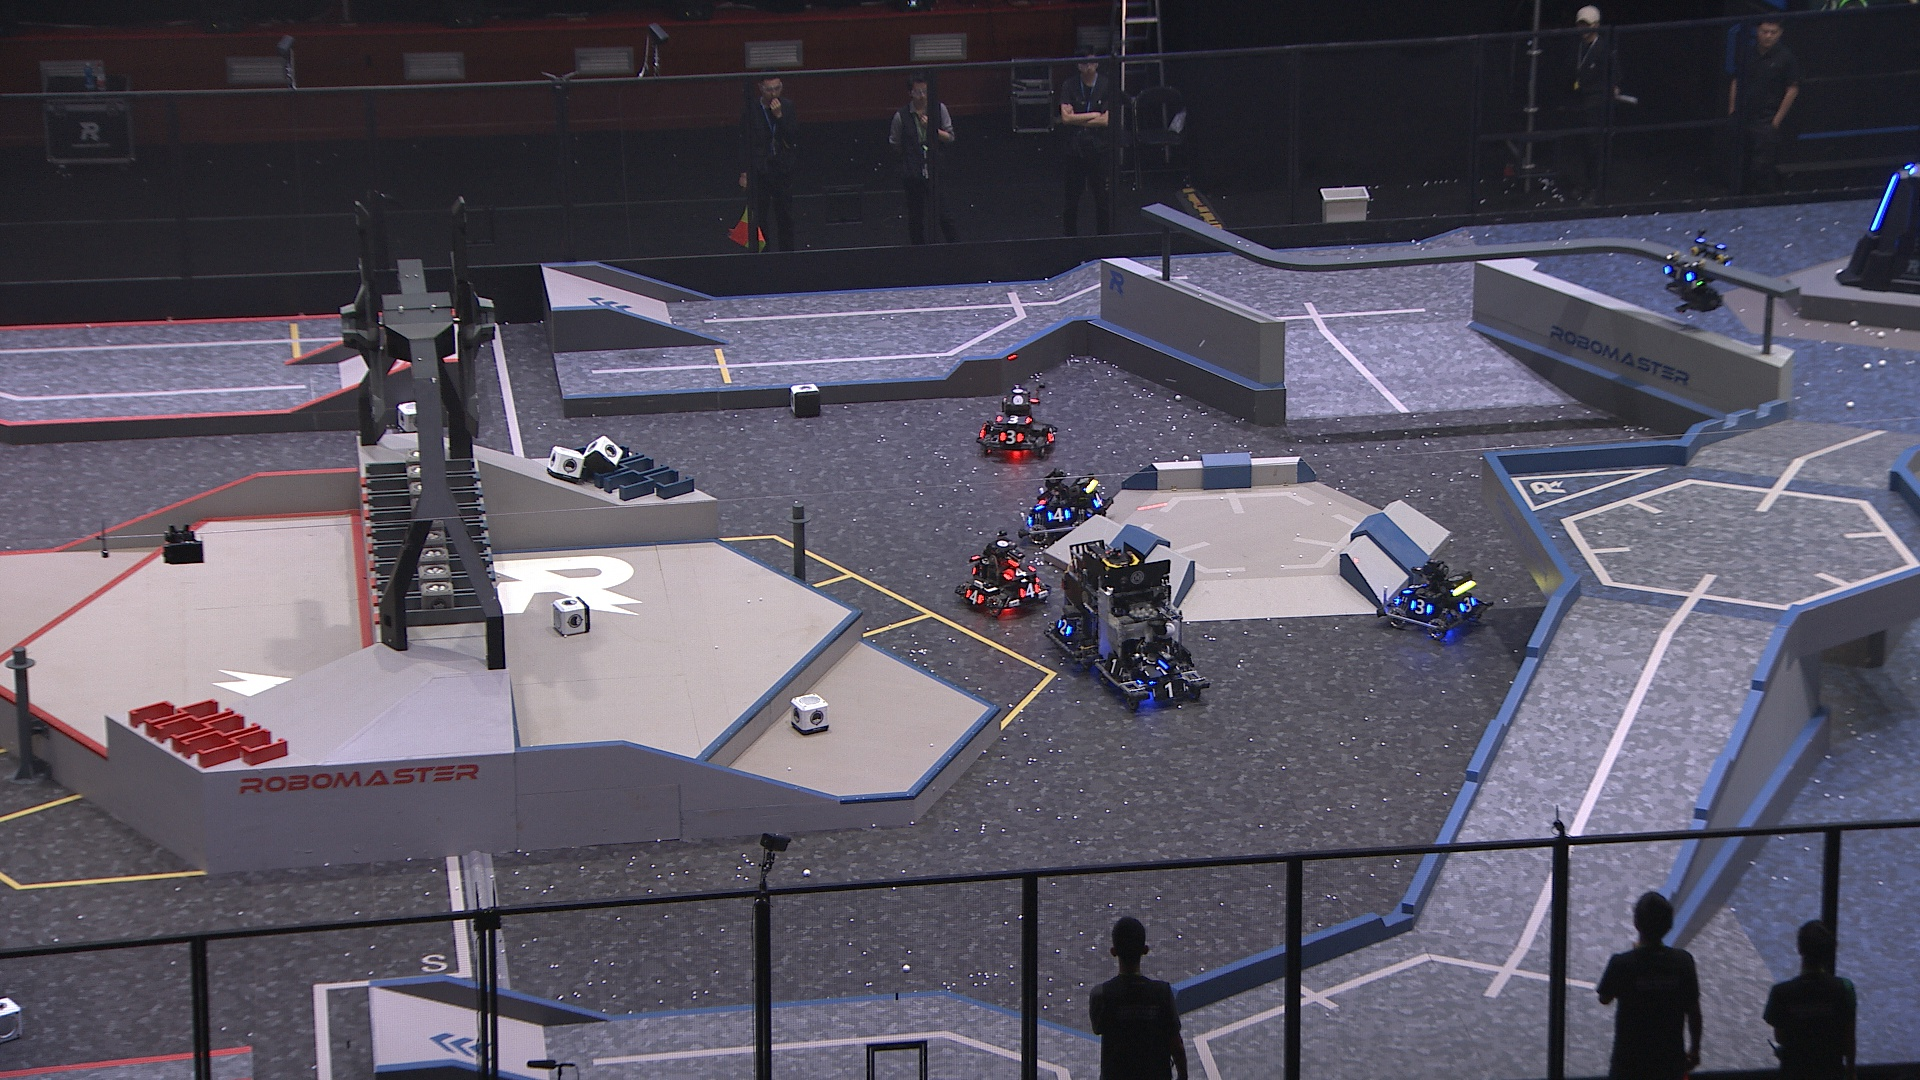armor: (1869, 173, 1896, 232), (1153, 680, 1191, 702), (1662, 262, 1695, 282), (1145, 659, 1178, 678), (1408, 597, 1433, 618), (996, 410, 1030, 425), (1102, 655, 1124, 678), (1005, 564, 1034, 580), (963, 589, 986, 607), (1044, 508, 1072, 522), (997, 429, 1022, 444), (1021, 582, 1039, 599), (1058, 618, 1073, 638), (1092, 488, 1106, 509), (1460, 593, 1476, 612), (1404, 582, 1420, 597), (1034, 489, 1046, 509), (1048, 425, 1058, 447)
base: (1832, 158, 1920, 294)
car: (1091, 559, 1211, 707), (1044, 533, 1135, 665), (1377, 559, 1494, 642), (953, 531, 1054, 617), (1021, 467, 1112, 543), (975, 392, 1063, 458)
watcher: (1660, 233, 1735, 313)
